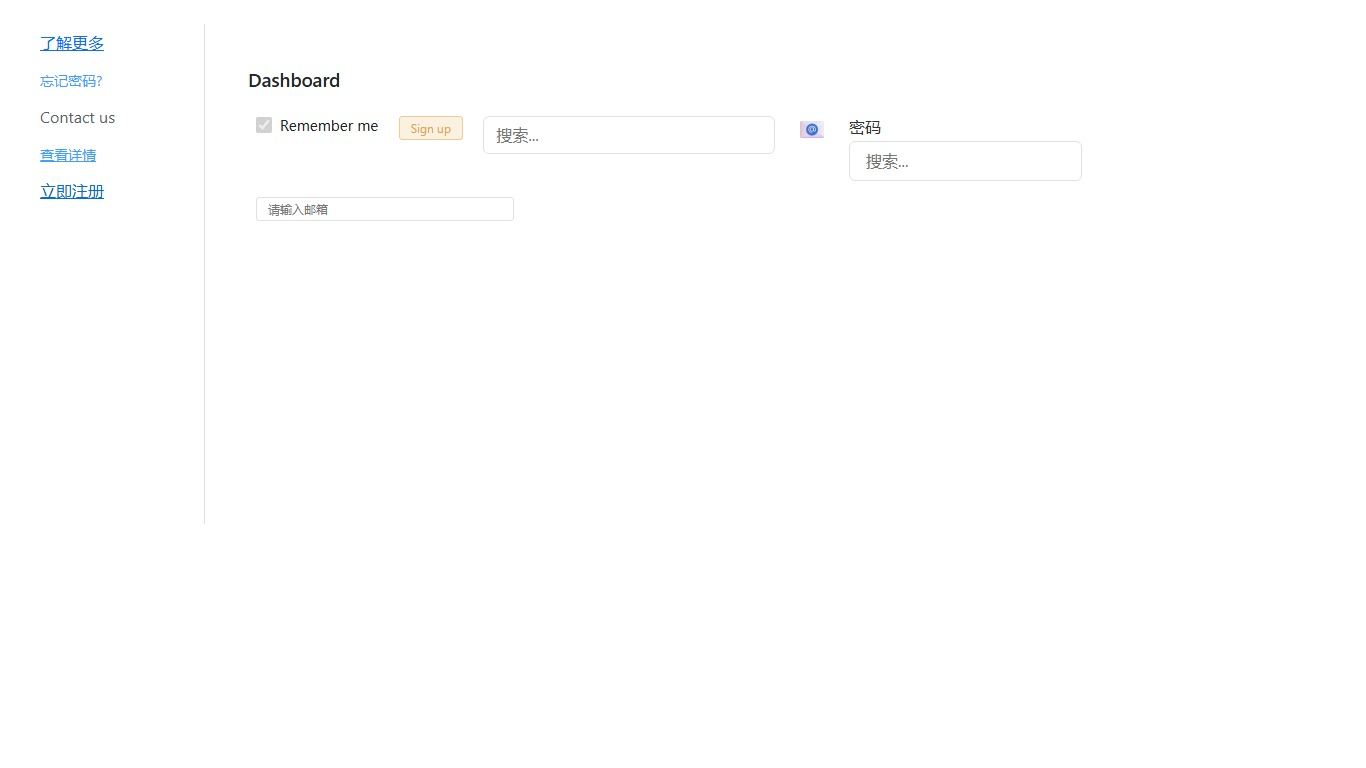button: (399, 116, 463, 140)
checkbox: (256, 117, 272, 133)
icon: (280, 116, 378, 135), (796, 116, 829, 140)
input: (483, 116, 775, 154), (849, 141, 1082, 181), (256, 197, 514, 221)
link: (40, 106, 115, 127), (40, 32, 104, 53), (40, 180, 104, 201), (40, 71, 102, 90), (40, 145, 96, 164)
radio: (256, 116, 378, 135)
